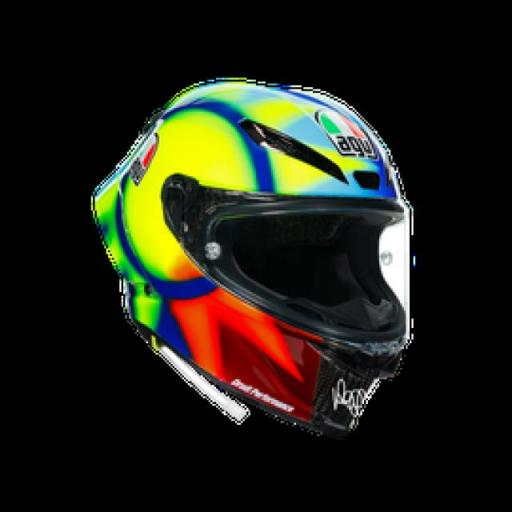Helmet: (66, 62, 432, 466)
